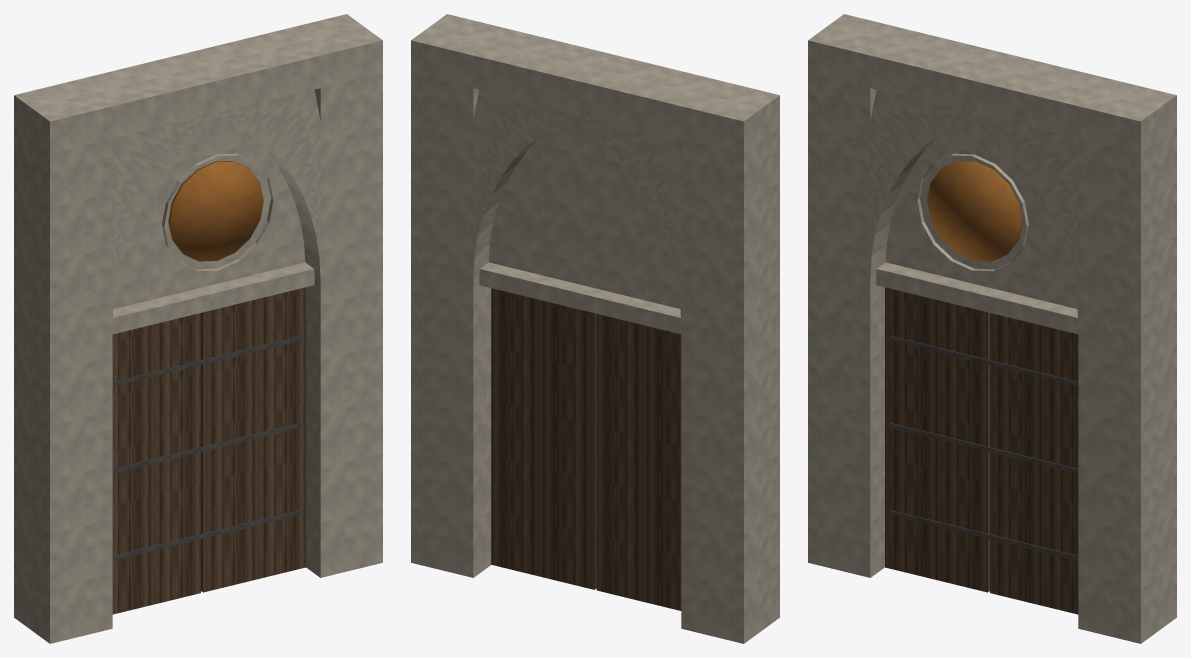
The model's file is Portal_Gothic_1.gltf.
The picture shows the model from 3 angles, left to right: view 1: azimuth 30°, elevation 25°; view 2: azimuth 150°, elevation 25°; view 3: azimuth 330°, elevation 25°; orthographic projection.
Parts seen in each view (by area): view 1: Portal_Gothic_1; view 2: Portal_Gothic_1; view 3: Portal_Gothic_1.
Boxes of the visible parts, x1,y1,x2,y2 form: Portal_Gothic_1: (14, 14, 382, 643); Portal_Gothic_1: (411, 14, 779, 643); Portal_Gothic_1: (808, 14, 1176, 643).
Bounding box in the file's own units: 6.4 × 9.6 × 1.28.
4 materials, 4 textured.
